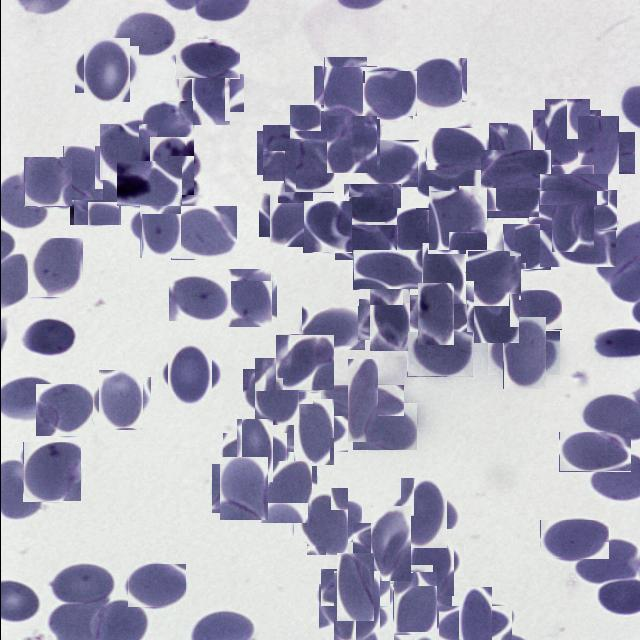red blood cell: (540, 176, 604, 242), (539, 213, 615, 267), (427, 186, 488, 248), (326, 577, 386, 638), (170, 206, 237, 260), (22, 442, 80, 502), (385, 580, 444, 638), (394, 484, 452, 542), (494, 324, 552, 382), (568, 124, 626, 182), (361, 514, 418, 572), (98, 123, 156, 180), (454, 251, 520, 301), (333, 372, 390, 429), (256, 464, 314, 520), (276, 334, 332, 392), (27, 238, 82, 297), (406, 58, 466, 112), (401, 534, 458, 590), (538, 105, 594, 162), (78, 42, 134, 98), (248, 364, 304, 419), (214, 461, 270, 516), (352, 403, 416, 450), (406, 332, 472, 377), (323, 118, 378, 172), (35, 384, 92, 436), (167, 275, 230, 322), (334, 212, 395, 260), (116, 161, 181, 206), (220, 272, 274, 326), (300, 494, 354, 548), (263, 188, 317, 242), (132, 198, 186, 252), (558, 432, 630, 472), (352, 250, 424, 290), (318, 61, 371, 115), (286, 406, 341, 458), (302, 306, 366, 350), (328, 561, 381, 614), (359, 140, 418, 187), (162, 348, 215, 400), (416, 248, 469, 300), (94, 374, 146, 426), (283, 139, 333, 193), (539, 520, 608, 559), (288, 105, 353, 146), (480, 150, 550, 188), (363, 294, 415, 345), (145, 140, 197, 191), (185, 68, 236, 119), (174, 39, 239, 79), (126, 564, 185, 608), (48, 565, 114, 604), (302, 201, 351, 253), (576, 542, 638, 583), (260, 128, 310, 178), (364, 69, 414, 119), (229, 426, 279, 476), (68, 178, 120, 226), (114, 14, 176, 54), (410, 289, 460, 338), (342, 184, 400, 226), (426, 128, 484, 170), (23, 157, 71, 207), (447, 597, 501, 640), (472, 294, 520, 342), (141, 101, 192, 145), (25, 319, 81, 359), (502, 224, 550, 270), (538, 174, 607, 206), (62, 146, 102, 201), (486, 125, 533, 171), (395, 208, 443, 253), (508, 290, 561, 330), (484, 182, 538, 218), (418, 161, 472, 196)
